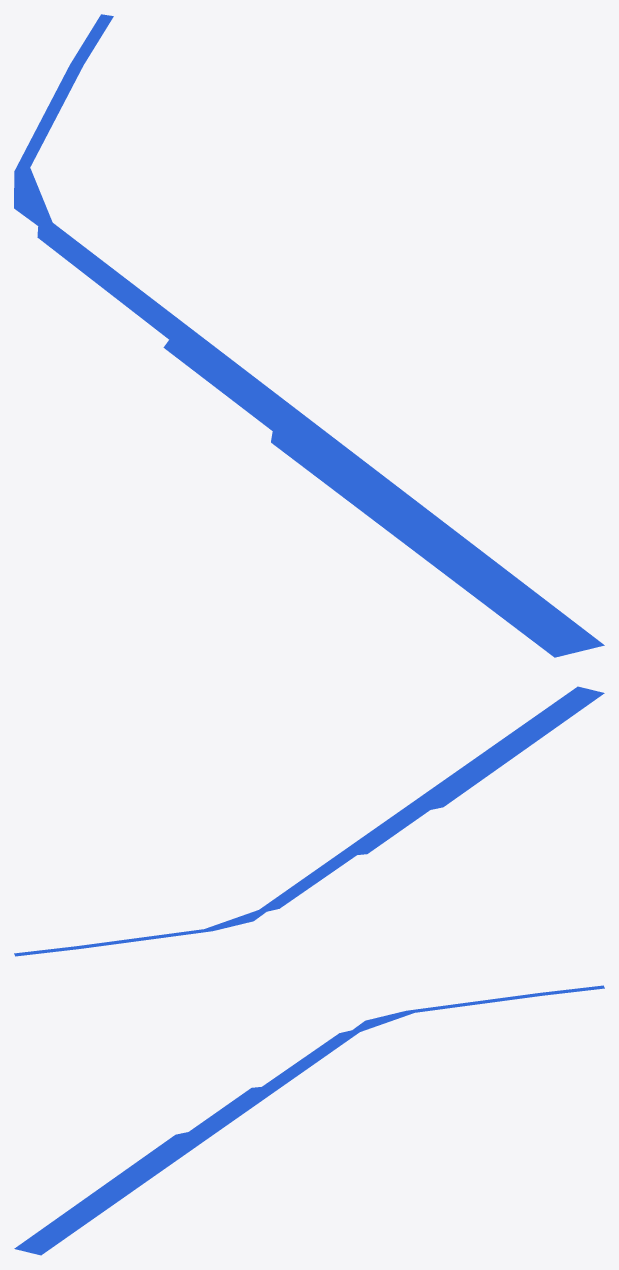
Rendered from vector3.glb.
The picture shows the model from 3 angles, top to bottom: view 1: azimuth 30°, elevation 25°; view 2: azimuth 150°, elevation 25°; view 3: azimuth 330°, elevation 25°; orthographic projection. The views are drawn at different scales.
Parts seen in each view (by area): view 1: Curve; view 2: Curve; view 3: Curve.
Boxes of the visible parts, x1,y1,x2,y2 form: Curve: [14, 14, 604, 657]; Curve: [14, 686, 604, 956]; Curve: [14, 985, 604, 1255].
Bounding box in the file's own units: 0.1936 × 0 × 0.793.
